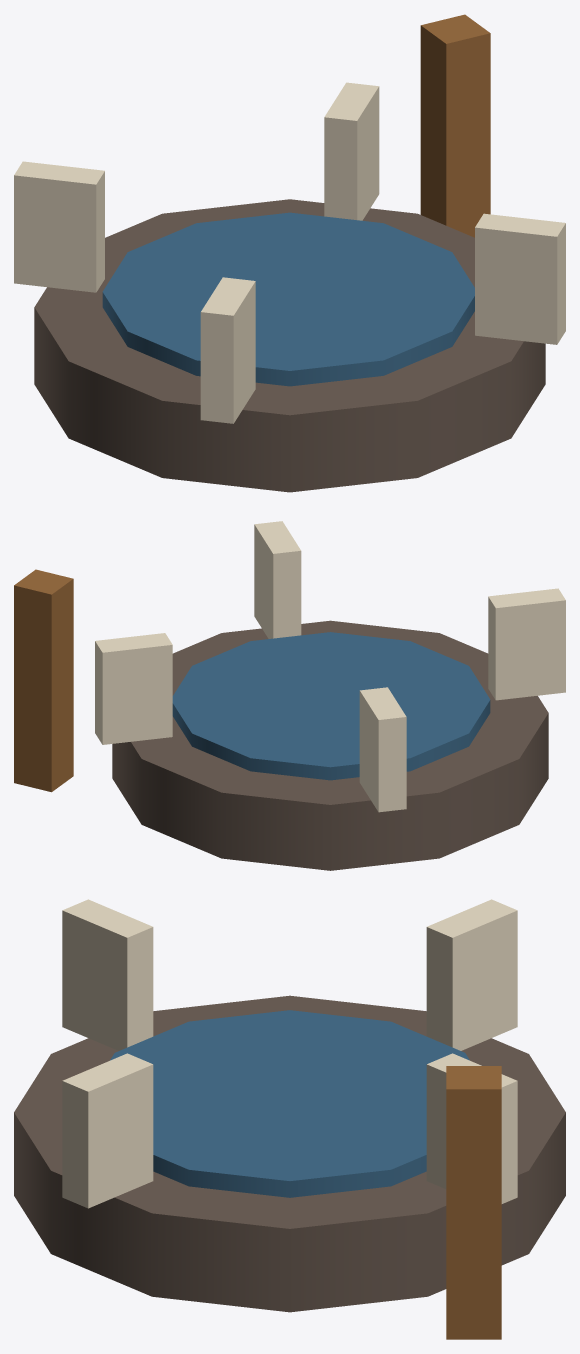
Rendered from imp_ling_quan_xiu_shan.glb.
3 views of the same model, one above another, from view 1: azimuth 30°, elevation 25°; view 2: azimuth 150°, elevation 25°; view 3: azimuth 270°, elevation 25° (orthographic). The views are drawn at different scales.
Visible parts, largest first — view 1: _MeshInstance3D_255, _MeshInstance3D_256, _MeshInstance3D_261, _MeshInstance3D_259, _MeshInstance3D_257, _MeshInstance3D_258, _MeshInstance3D_260; view 2: _MeshInstance3D_255, _MeshInstance3D_256, _MeshInstance3D_261, _MeshInstance3D_258, _MeshInstance3D_260, _MeshInstance3D_259, _MeshInstance3D_257; view 3: _MeshInstance3D_255, _MeshInstance3D_256, _MeshInstance3D_261, _MeshInstance3D_257, _MeshInstance3D_258, _MeshInstance3D_259, _MeshInstance3D_260.
Part boxes in pixels (x1,y1,x2,y2): _MeshInstance3D_255: (34,199,545,492); _MeshInstance3D_256: (102,212,474,386); _MeshInstance3D_261: (420,14,490,237); _MeshInstance3D_259: (14,161,104,292); _MeshInstance3D_257: (475,213,565,344); _MeshInstance3D_258: (200,277,255,423); _MeshInstance3D_260: (324,82,379,220); _MeshInstance3D_255: (112,620,548,870); _MeshInstance3D_256: (172,632,490,780); _MeshInstance3D_261: (14,569,73,792); _MeshInstance3D_258: (488,588,565,700); _MeshInstance3D_260: (95,633,172,744); _MeshInstance3D_259: (359,687,406,812); _MeshInstance3D_257: (254,521,301,638); _MeshInstance3D_255: (14,995,565,1312); _MeshInstance3D_256: (110,1010,469,1197); _MeshInstance3D_261: (446,1066,501,1339); _MeshInstance3D_257: (62,1053,153,1208); _MeshInstance3D_258: (62,899,153,1050); _MeshInstance3D_259: (426,899,517,1050); _MeshInstance3D_260: (426,1053,517,1203).
Size of the model in its own units: 0.67 by 0.3 by 0.6.
